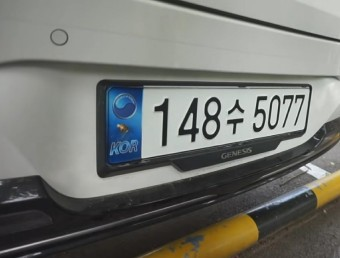car: (94, 78, 313, 161)
